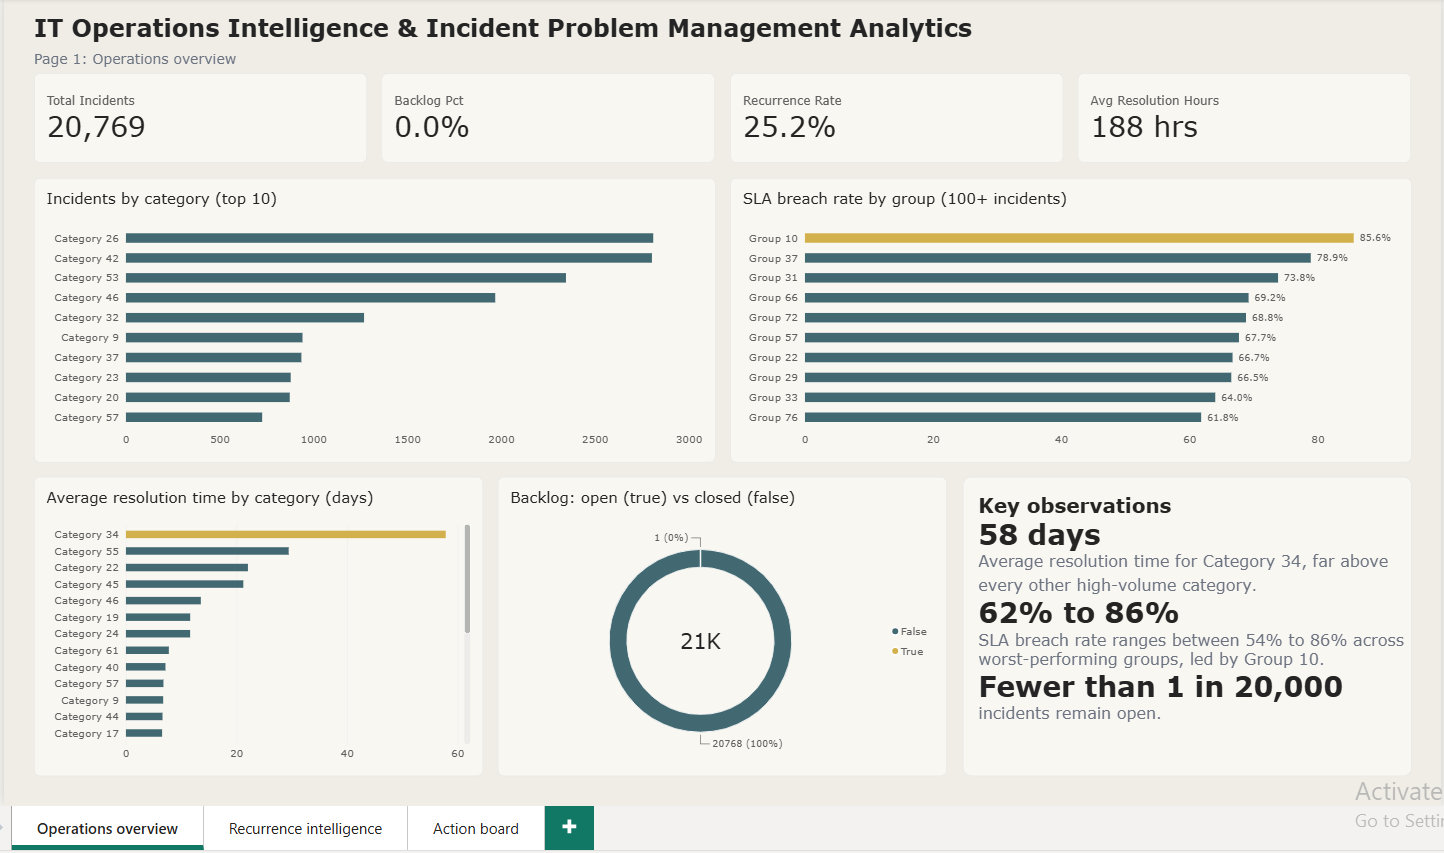

This screenshot's page, from the dashboard's own definition file:
{"tool":"powerbi","page":{"name":"Operations overview","canvas":[1920,1080],"ordinal":0},"visuals":[{"type":"cardVisual","fields":{"Data":["it_incidents incidents_final.Total Incidents"]},"box":[40,100,445,120],"z":0},{"type":"cardVisual","fields":{"Data":["it_incidents incidents_final.Backlog Pct"]},"box":[505,100,445,120],"z":1000},{"type":"cardVisual","fields":{"Data":["it_incidents incidents_final.Recurrence Rate"]},"box":[970,100,445,120],"z":2000},{"type":"cardVisual","fields":{"Data":["it_incidents incidents_final.Avg Resolution Hours"]},"box":[1435,100,445,120],"z":3000},{"type":"clusteredBarChart","title":"Incidents by category (top 10)","fields":{"Category":["it_incidents incidents_final.category"],"Y":["it_incidents incidents_final.Incidents"]},"box":[40,240,910,380],"z":4000},{"type":"clusteredBarChart","title":"SLA breach rate by group (100+ incidents)","fields":{"Category":["SLABreachCorrected.Group"],"Y":["Sum(SLABreachCorrected.BreachRate)"]},"box":[970,240,910,380],"z":5000},{"type":"barChart","title":"Average resolution time by category (days)","fields":{"Category":["it_incidents incidents_final.category"],"Y":["it_incidents incidents_final.Avg Resolution Days"]},"box":[40,640,600,400],"z":6000},{"type":"donutChart","title":"Backlog: open (true) vs closed (false)","fields":{"Category":["BacklogCorrected.Status"],"Y":["Sum(BacklogCorrected.Count)"]},"box":[660,640,600,400],"z":7000},{"type":"textbox","box":[1280,640,600,400],"z":8000},{"type":"textbox","box":[40,20,1840,60],"z":9000},{"type":"textbox","box":[40,70,900,30],"z":10000}]}

Visuals, with their boxes on the page's 1920x1080 design canvas (x1, y1, x2, y2). These are canvas units, not pixel positions in the 1444x853 screenshot, which may show the page scaled, cropped or inside an application window:
cardVisual - it_incidents incidents_final.Total Incidents: l=40, t=100, r=485, b=220
cardVisual - it_incidents incidents_final.Backlog Pct: l=505, t=100, r=950, b=220
cardVisual - it_incidents incidents_final.Recurrence Rate: l=970, t=100, r=1415, b=220
cardVisual - it_incidents incidents_final.Avg Resolution Hours: l=1435, t=100, r=1880, b=220
"Incidents by category (top 10)" clusteredBarChart: l=40, t=240, r=950, b=620
"SLA breach rate by group (100+ incidents)" clusteredBarChart: l=970, t=240, r=1880, b=620
"Average resolution time by category (days)" barChart: l=40, t=640, r=640, b=1040
"Backlog: open (true) vs closed (false)" donutChart: l=660, t=640, r=1260, b=1040
textbox: l=1280, t=640, r=1880, b=1040
textbox: l=40, t=20, r=1880, b=80
textbox: l=40, t=70, r=940, b=100
